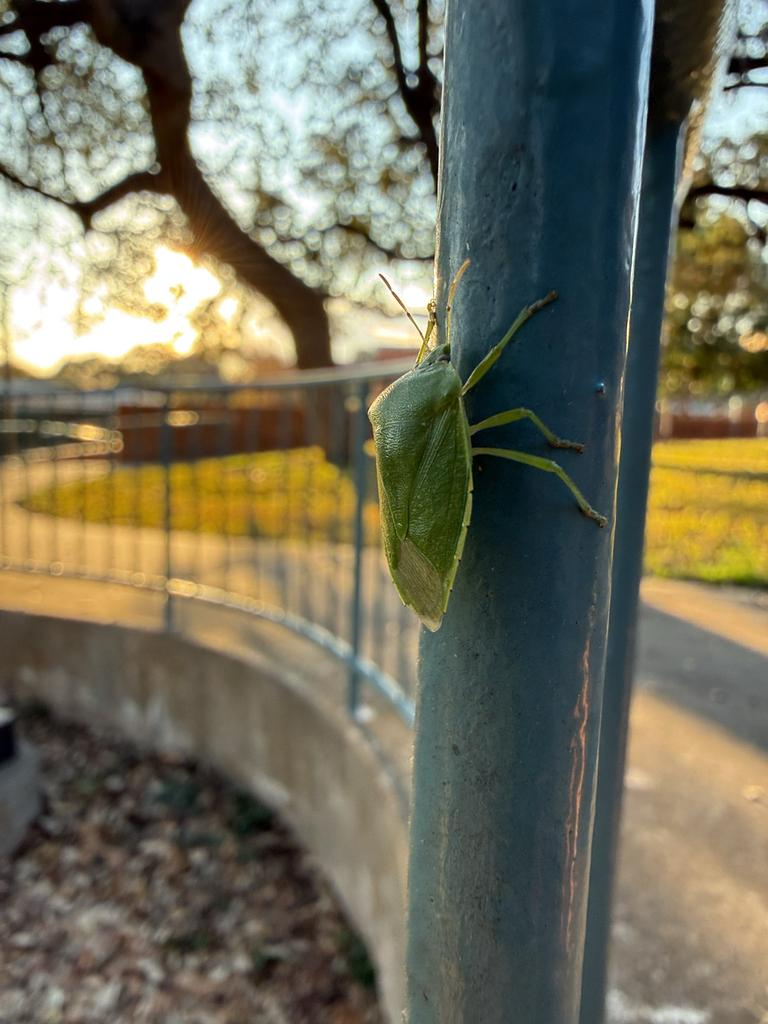stink_bugs: (262, 214, 632, 690)
